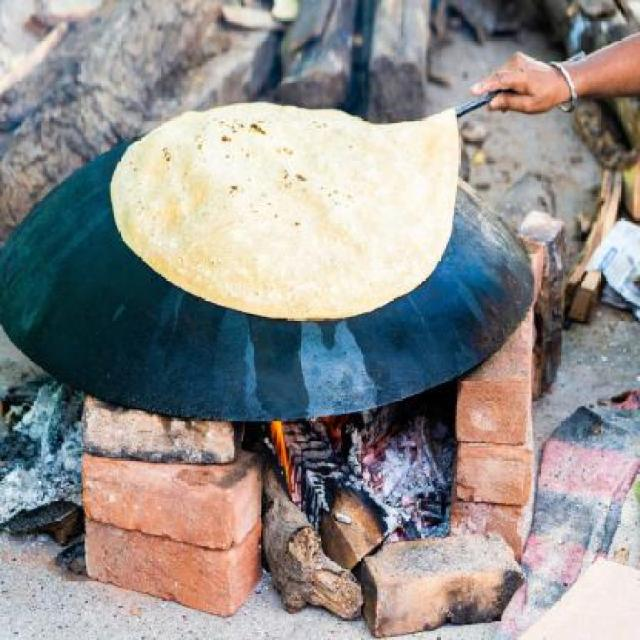chapati: (111, 103, 460, 320)
